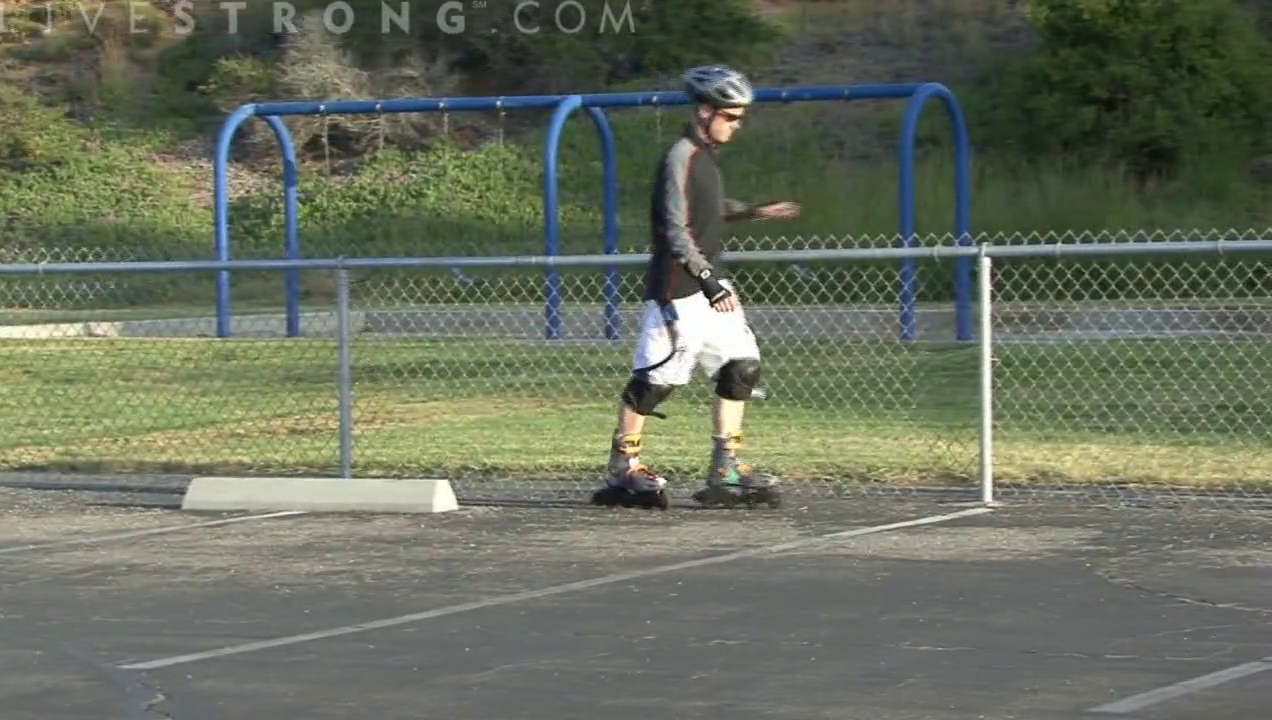person: (591, 65, 800, 511)
